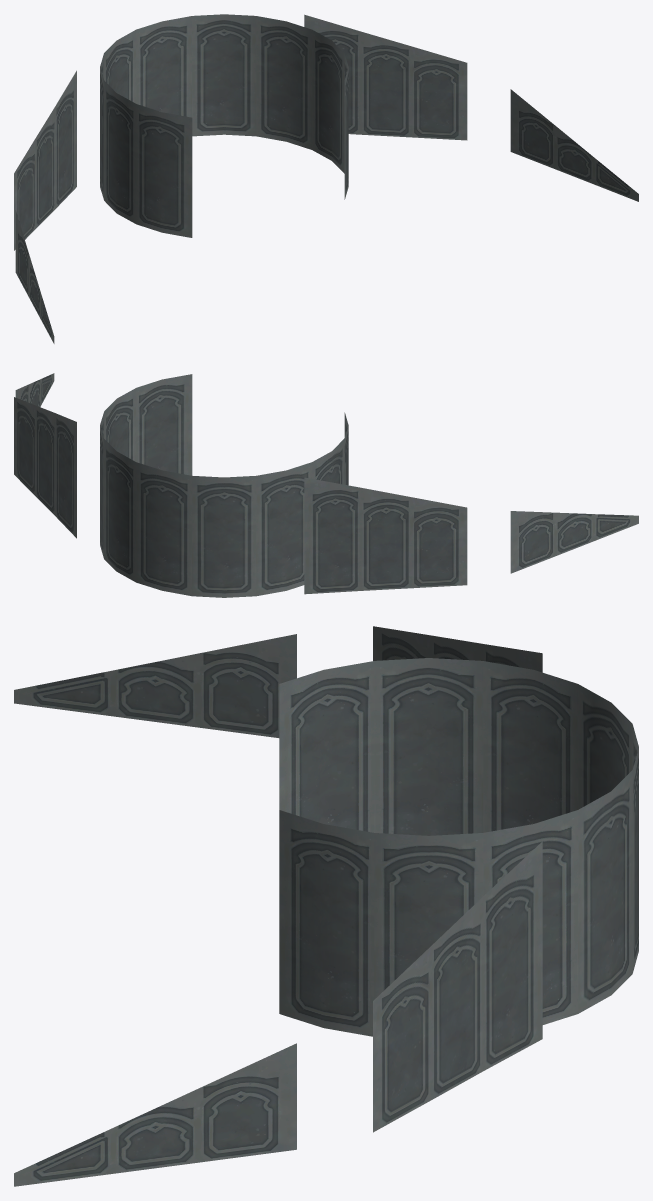
The model's file is Indoor_MdBuild_Church01_1258_0.fbx.
3 views of the same model, one above another, from view 1: azimuth 30°, elevation 25°; view 2: azimuth 150°, elevation 25°; view 3: azimuth 270°, elevation 25° (orthographic). The views are drawn at different scales.
Visible parts, largest first — view 1: Indoor_MdBuild_Church01_1258_0; view 2: Indoor_MdBuild_Church01_1258_0; view 3: Indoor_MdBuild_Church01_1258_0.
Part boxes in pixels (x1,y1,x2,y2): Indoor_MdBuild_Church01_1258_0: (14,14,638,343); Indoor_MdBuild_Church01_1258_0: (14,373,638,597); Indoor_MdBuild_Church01_1258_0: (14,626,638,1186).
Size of the model in its own units: 14.11 by 2.78 by 7.71.
